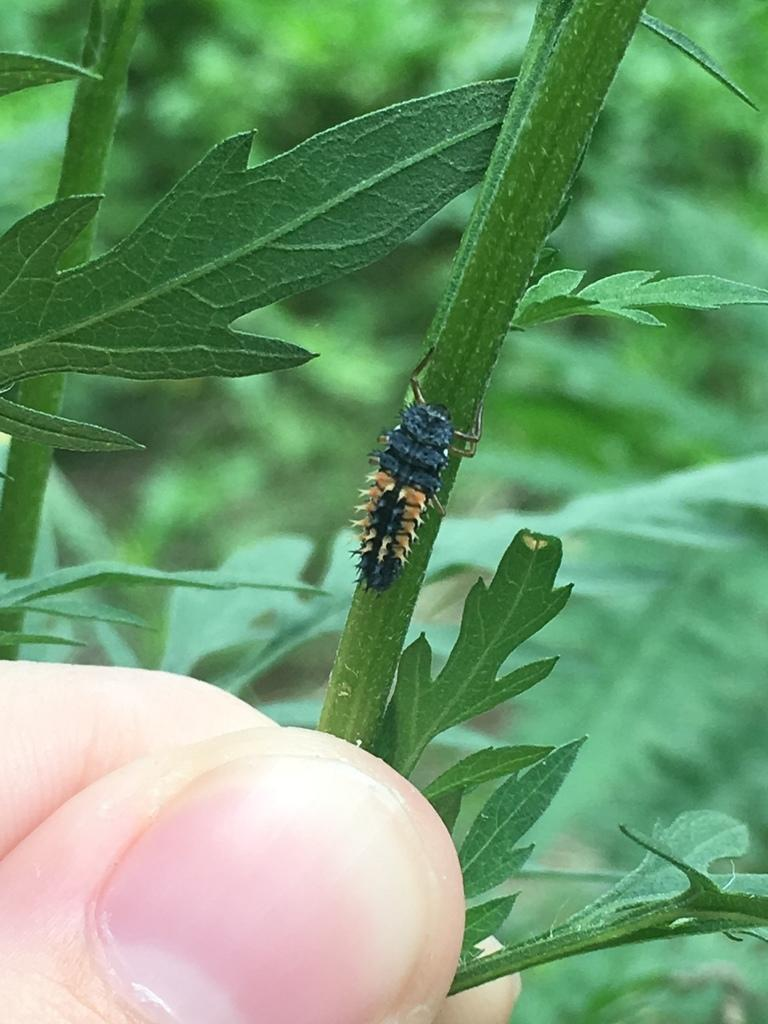ladybug: (346, 346, 491, 606)
